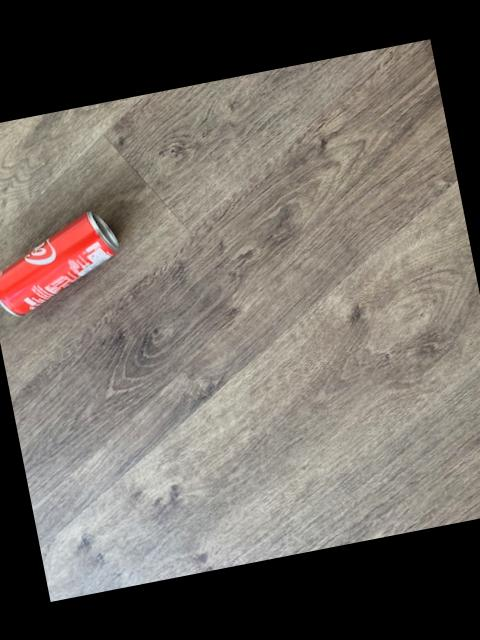metal: (0, 211, 118, 314)
